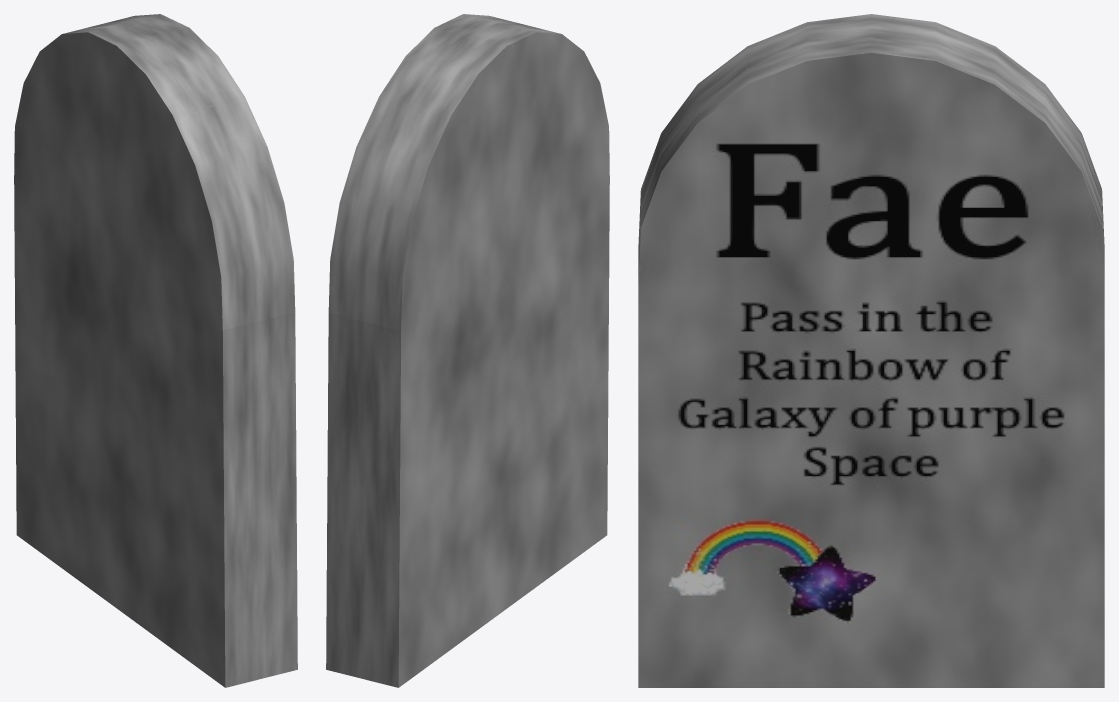
The model's file is Gravestone.fae.dae.
3 views of the same model, side by side, from view 1: azimuth 30°, elevation 25°; view 2: azimuth 150°, elevation 25°; view 3: azimuth 270°, elevation 25° (orthographic). The views are drawn at different scales.
Visible parts, largest first — view 1: SketchUp; view 2: SketchUp; view 3: SketchUp.
Boxes of the visible parts, <box> form: SketchUp: <box>14,14,297,687</box>; SketchUp: <box>326,14,609,687</box>; SketchUp: <box>638,14,1104,687</box>.
Size of the model in its own units: 0.0341 by 0.161 by 0.2413.
1 material, 1 textured.
